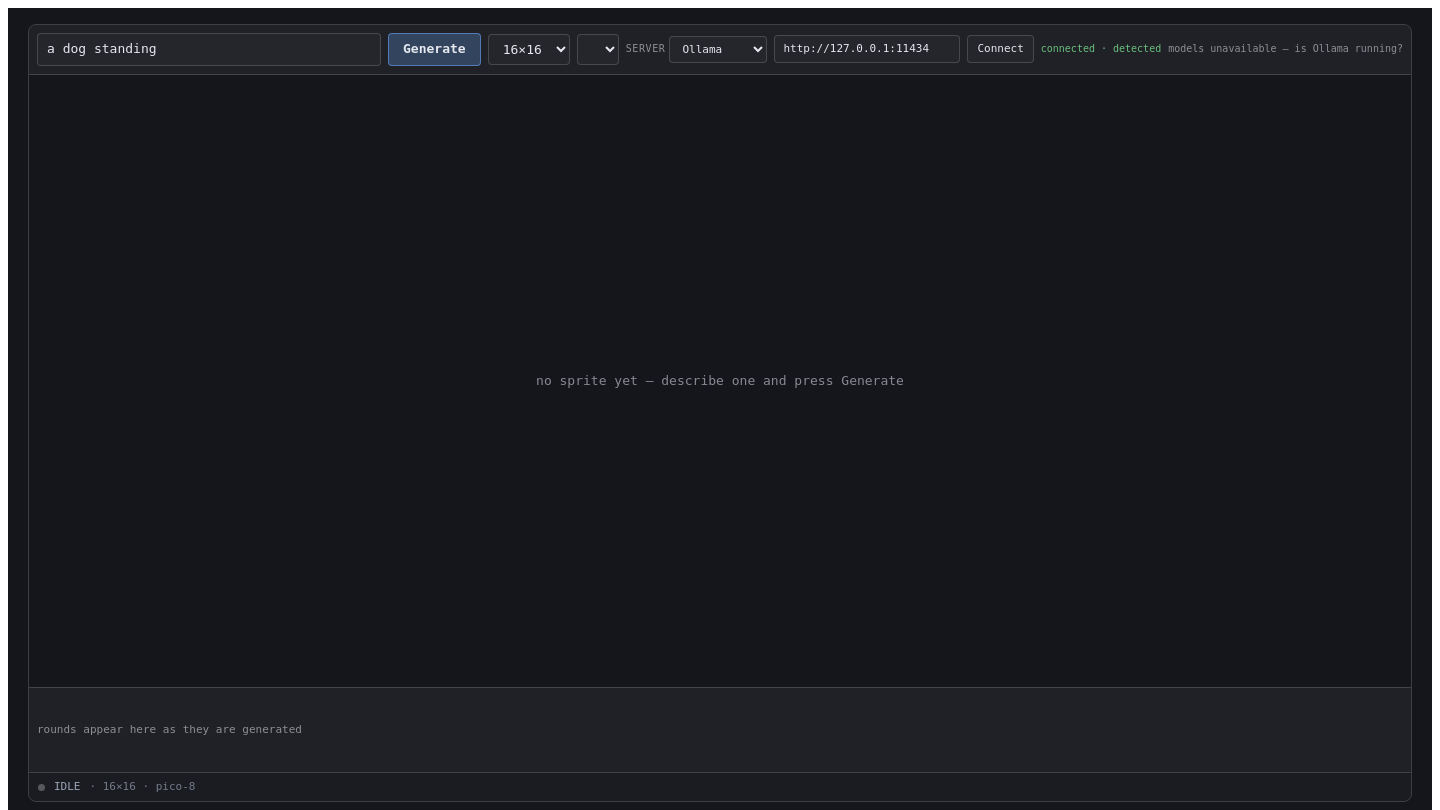
App — the provider row › blocks Generate when the new provider does not have the bound model
The width and height of the screenshot is (1440, 810).
Select "LM Studio" in the dropdown with test id "provider-select": (718, 49) x1=669 y1=36 x2=767 y2=63
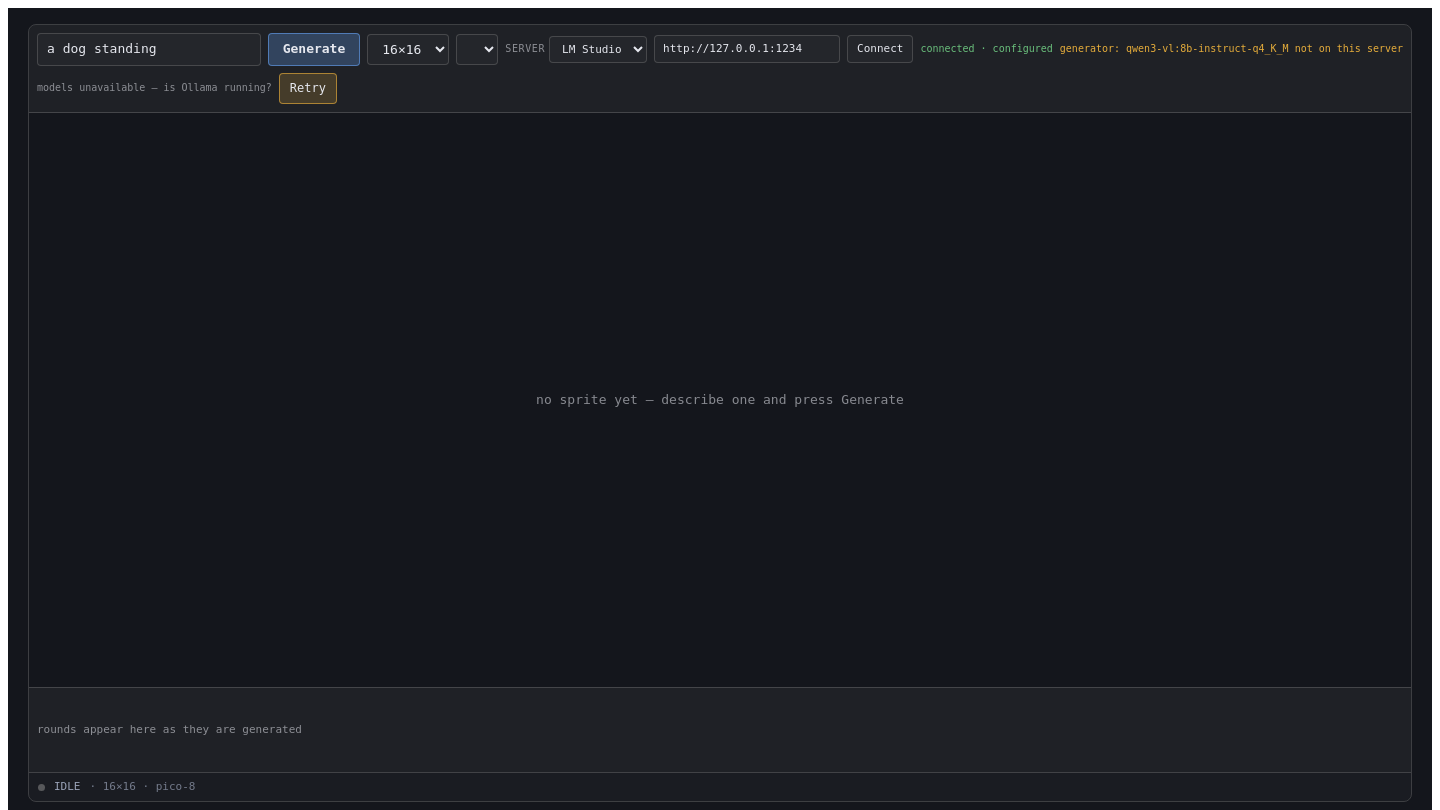
Expected: the button with test id "generate" is disabled, x1=268 y1=33 x2=360 y2=66
Expected: the text with test id "provider-unavailable" shows "generator", x1=1060 y1=43 x2=1289 y2=54
